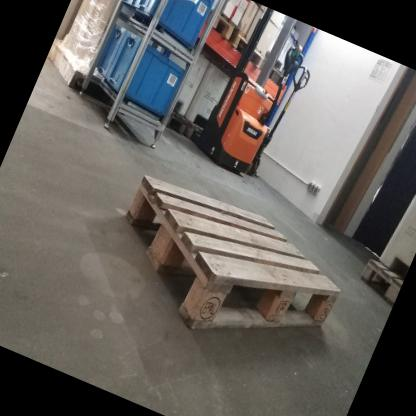BoxFace: (122, 167, 344, 336)
